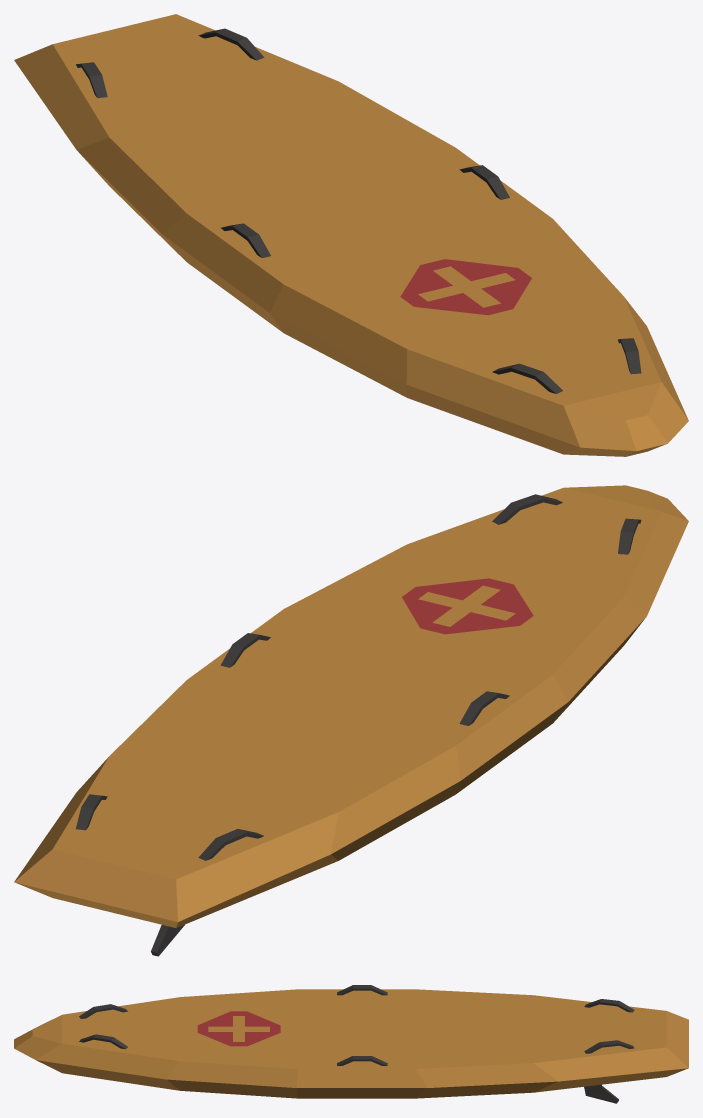
File: SM_Props_City_Beach_Surfboard.fbx
3 views of the same model, one above another, from view 1: azimuth 30°, elevation 25°; view 2: azimuth 150°, elevation 25°; view 3: azimuth 270°, elevation 25° (orthographic). The views are drawn at different scales.
Visible parts, largest first — view 1: SM_Props_City_Beach_Surfboard; view 2: SM_Props_City_Beach_Surfboard; view 3: SM_Props_City_Beach_Surfboard.
Part boxes in pixels (left/top/right/bottom): SM_Props_City_Beach_Surfboard: left=14, top=14, right=688, bottom=456; SM_Props_City_Beach_Surfboard: left=14, top=485, right=688, bottom=956; SM_Props_City_Beach_Surfboard: left=14, top=985, right=688, bottom=1103.
Size of the model in its own units: 70.4 by 30 by 227.
